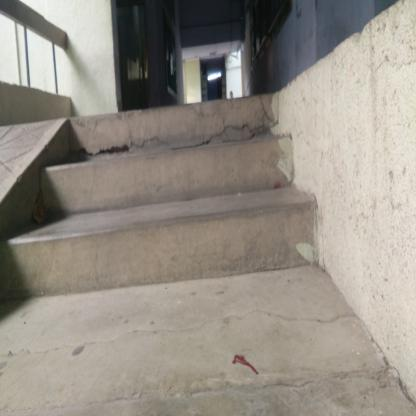stairs: (79, 111, 278, 292)
